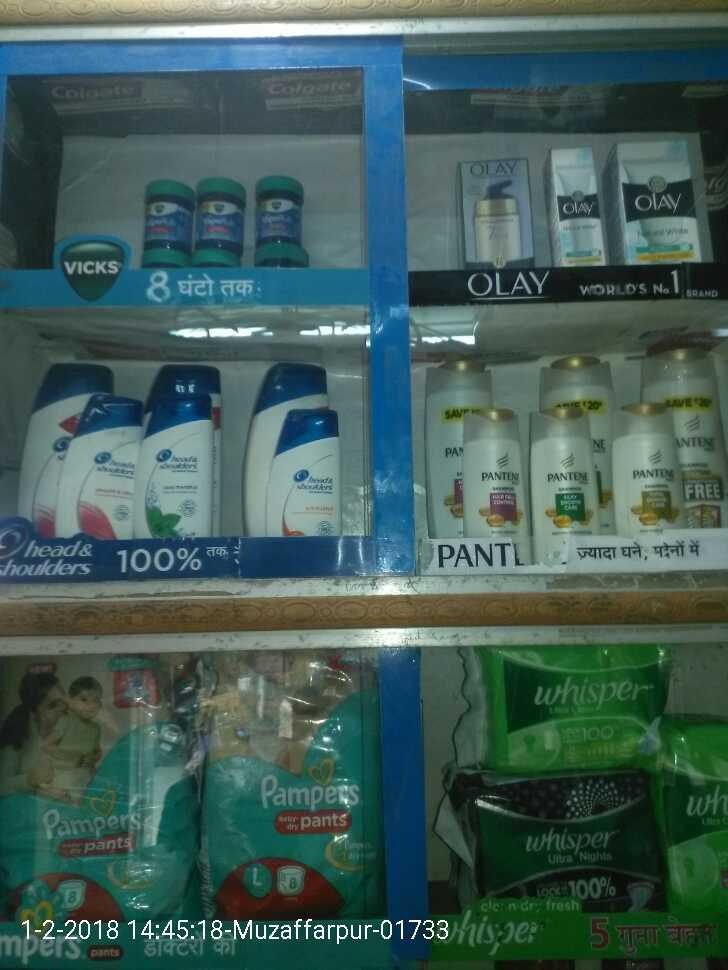vicks: (149, 154, 307, 272)
